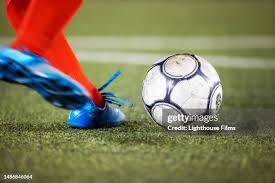football ball: (142, 54, 224, 134)
